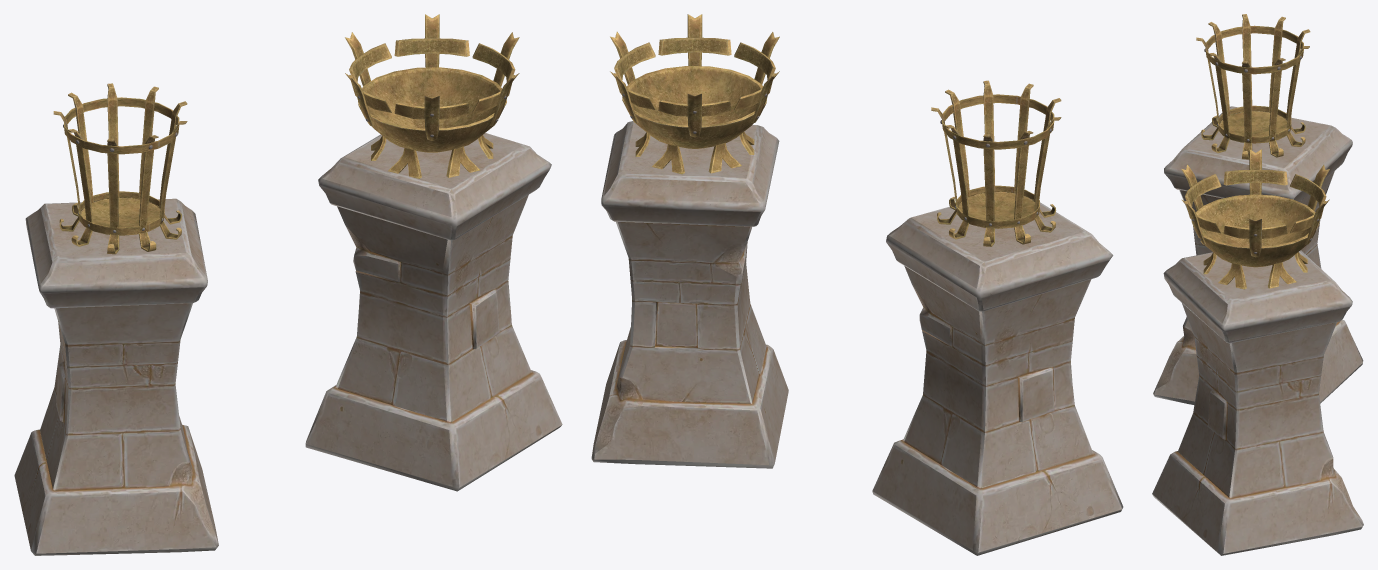
Rendered from PRP_Brazier.glb.
3 views of the same model, side by side, from view 1: azimuth 30°, elevation 25°; view 2: azimuth 150°, elevation 25°; view 3: azimuth 270°, elevation 25° (orthographic). The views are drawn at different scales.
Parts seen in each view (by area): view 1: Object_3, Object_2; view 2: Object_3, Object_2; view 3: Object_3, Object_2.
Boxes of the visible parts, x1=… form: Object_3: x1=14, y1=133, x2=562, y2=555; Object_2: x1=53, y1=14, x2=519, y2=254; Object_3: x1=591, y1=121, x2=1123, y2=555; Object_2: x1=610, y1=14, x2=1061, y2=246; Object_3: x1=1152, y1=106, x2=1363, y2=555; Object_2: x1=1181, y1=14, x2=1329, y2=289.
Bounding box in the file's own units: 482 × 351 × 196.
Materials: 2 (2 with a texture image).
